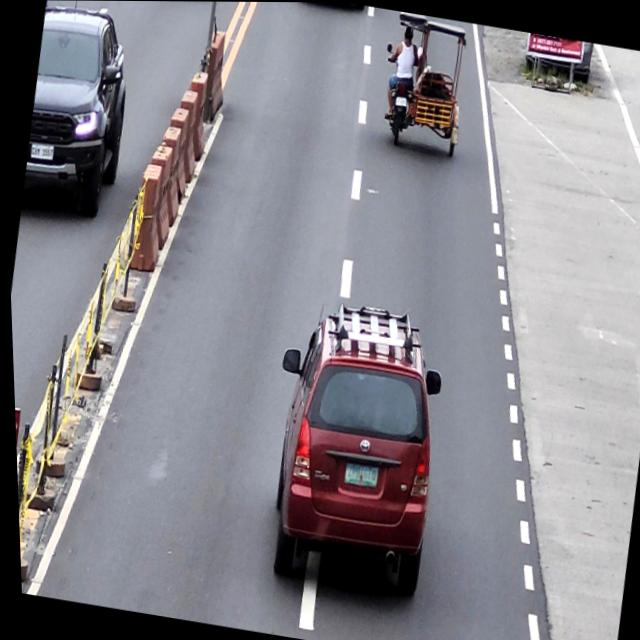Car: (243, 292, 457, 606)
License-Plate: (339, 461, 376, 489), (393, 96, 406, 107)
Tricycle: (370, 38, 473, 158)
